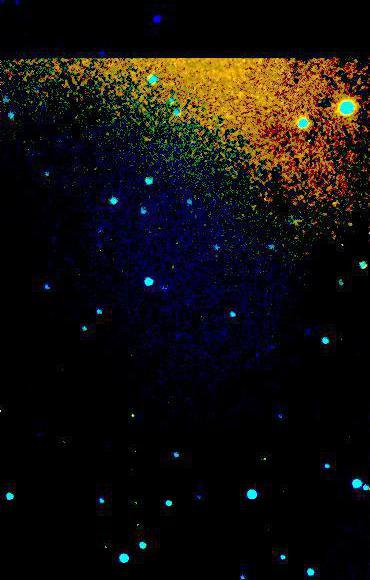star: (116, 407, 146, 437)
